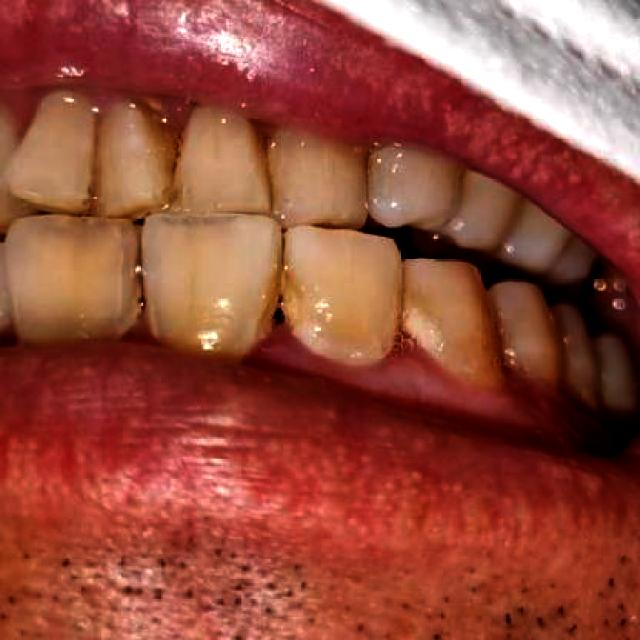Plaque: (246, 322, 577, 434), (136, 93, 197, 141), (73, 87, 127, 113), (118, 312, 156, 342), (15, 93, 42, 129), (251, 121, 277, 141)
